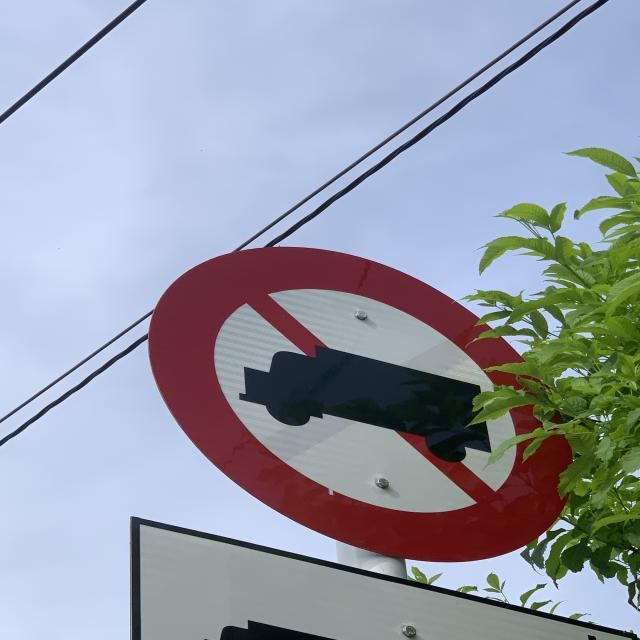Cam_Xe_Tai: (152, 242, 578, 562)
